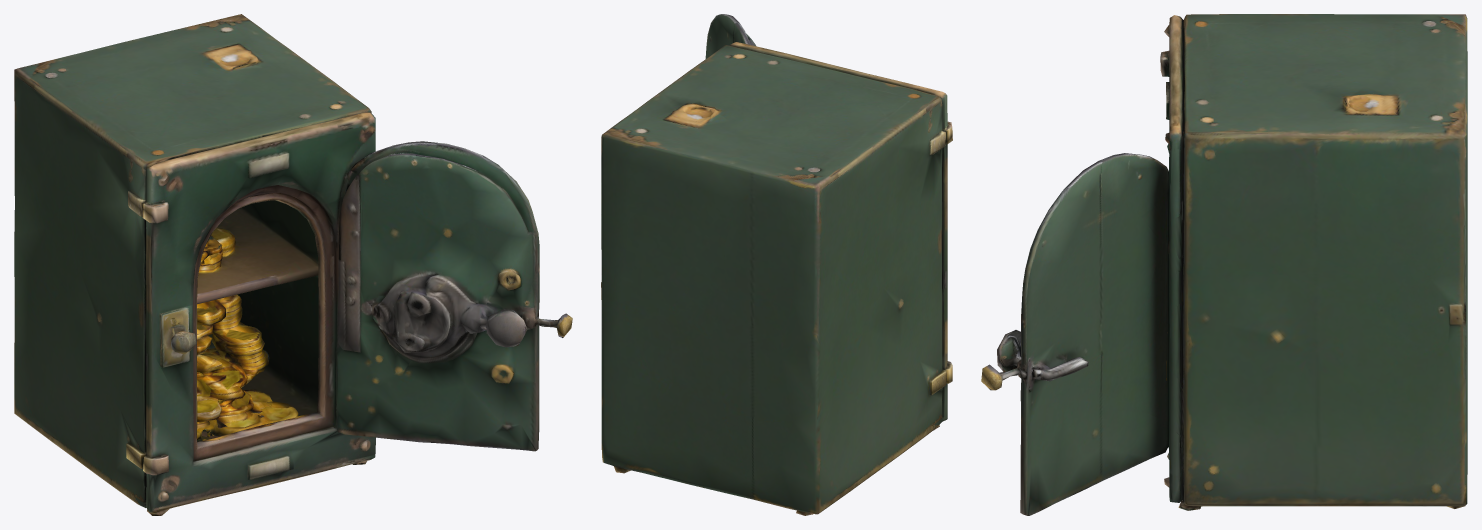
File: meshy.glb
3 renders of one model, left to right at view 1: azimuth 30°, elevation 25°; view 2: azimuth 150°, elevation 25°; view 3: azimuth 270°, elevation 25°, orthographic. The views are drawn at different scales.
Bounding box in the file's own units: 1.76 × 1.72 × 1.98.
1 material, 1 textured.
